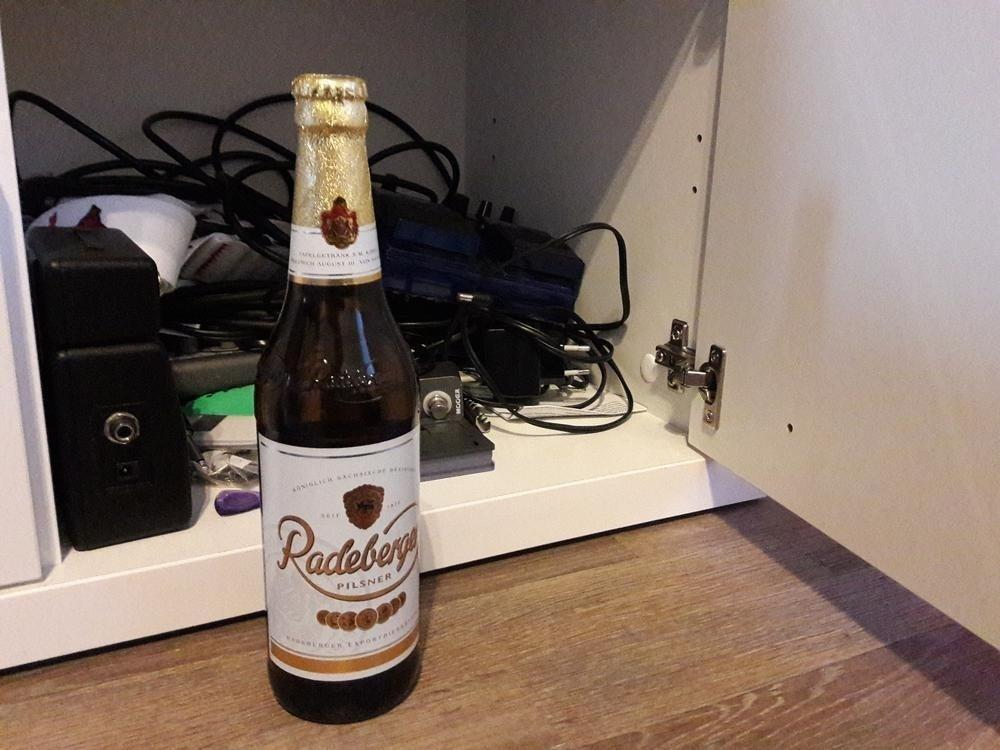bottle-glass: (253, 71, 423, 724)
